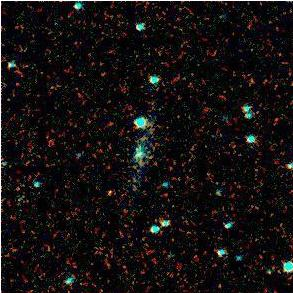star: (95, 172, 125, 202)
